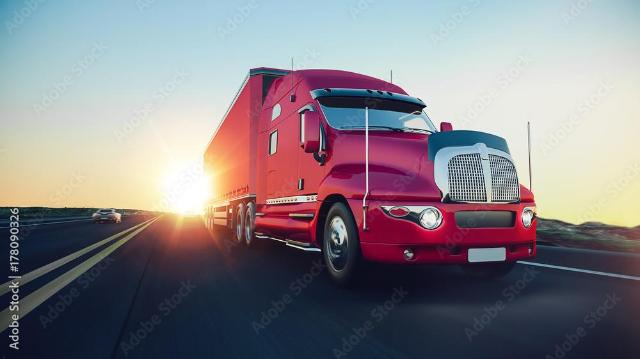truck: (218, 55, 539, 289)
